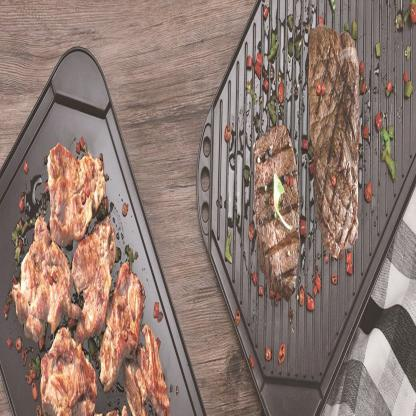Carne: (303, 18, 363, 261), (250, 105, 302, 306), (15, 220, 73, 340), (44, 145, 110, 237), (98, 261, 145, 385), (75, 222, 116, 332), (40, 329, 90, 416), (139, 319, 166, 416)
